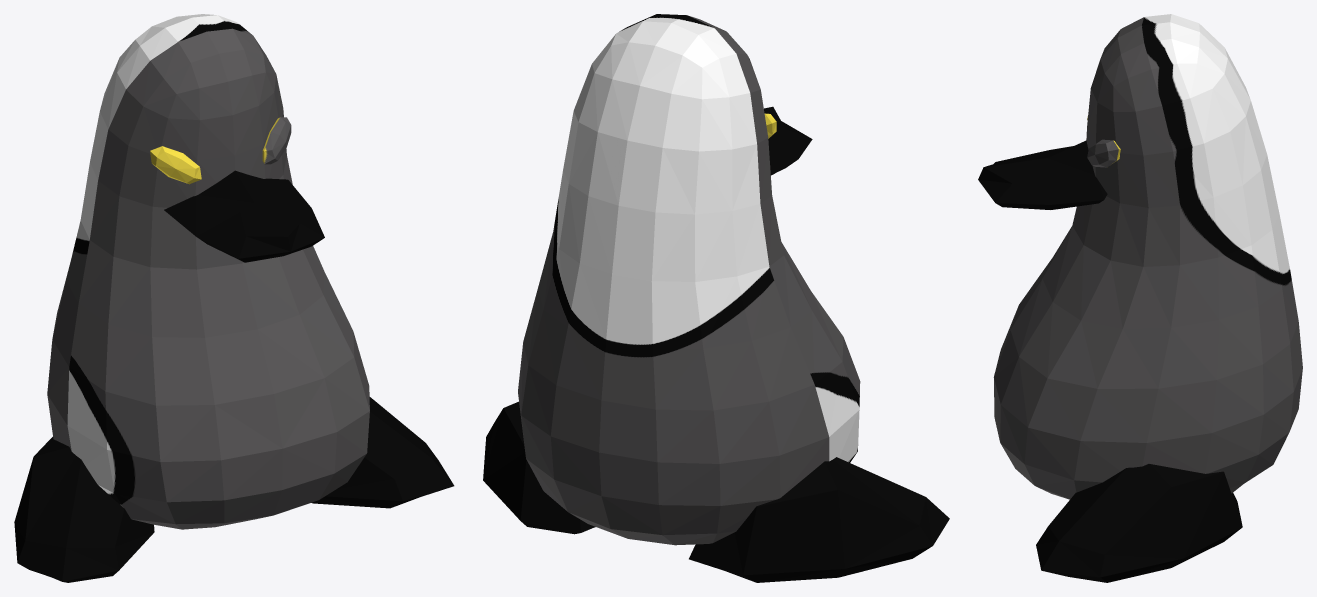
File: penger.obj
3 renders of one model, left to right at view 1: azimuth 30°, elevation 25°; view 2: azimuth 150°, elevation 25°; view 3: azimuth 270°, elevation 25°, orthographic. The views are drawn at different scales.
Parts seen in each view (by area): view 1: penger; view 2: penger; view 3: penger.
Boxes of the visible parts, x1,y1,x2,y2 form: penger: [14, 14, 454, 582]; penger: [483, 14, 949, 582]; penger: [978, 14, 1302, 582].
Size of the model in its own units: 1.1 by 1.22 by 0.7548.
Materials: 1 (1 with a texture image).
